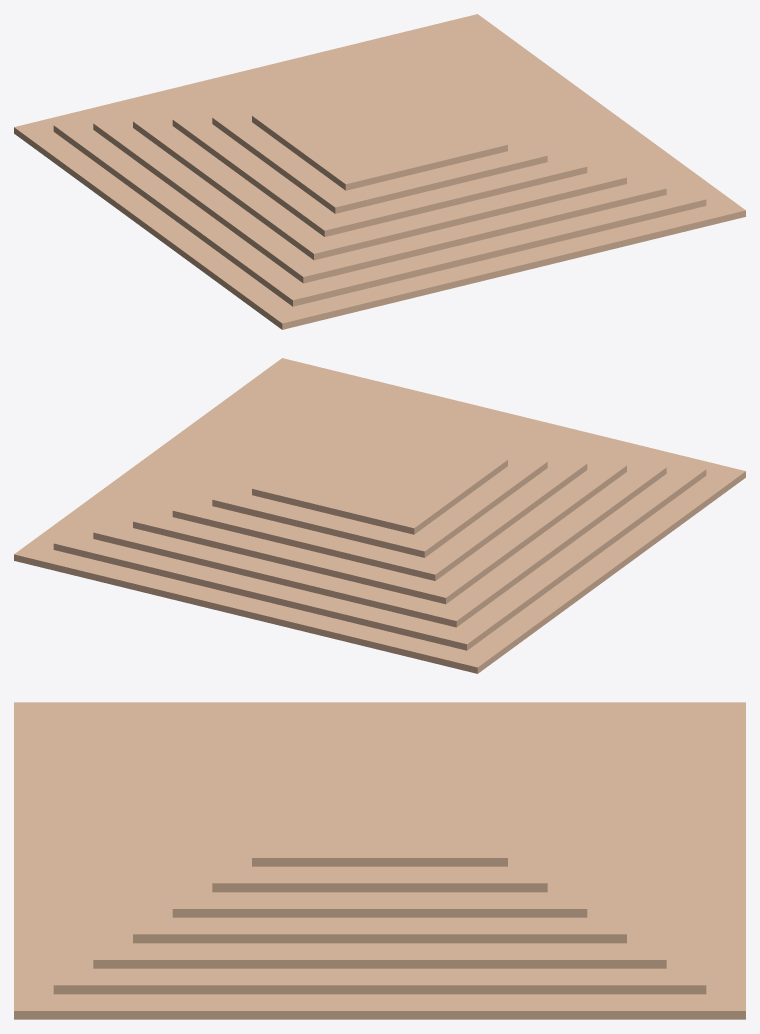
Rendered from place-tiwanaku.glb.
3 views of the same model, one above another, from view 1: azimuth 30°, elevation 25°; view 2: azimuth 150°, elevation 25°; view 3: azimuth 270°, elevation 25° (orthographic). The views are drawn at different scales.
Visible parts, largest first — view 1: place-tiwanaku; view 2: place-tiwanaku; view 3: place-tiwanaku.
Boxes of the visible parts, x1,y1,x2,y2 form: place-tiwanaku: [14, 14, 745, 329]; place-tiwanaku: [14, 358, 745, 673]; place-tiwanaku: [14, 702, 745, 1019].
Size of the model in its own units: 194 by 18 by 194.
